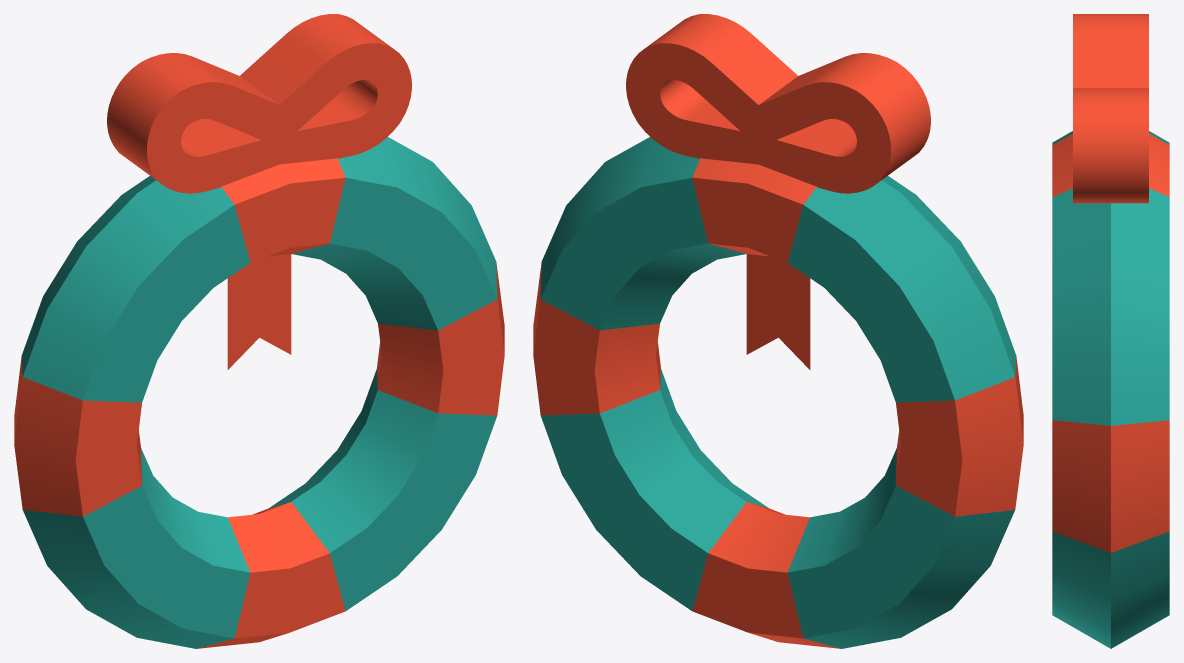
File: wreath.fbx
3 views of the same model, side by side, from view 1: azimuth 30°, elevation 25°; view 2: azimuth 150°, elevation 25°; view 3: azimuth 270°, elevation 25° (orthographic). The views are drawn at different scales.
Visible parts, largest first — view 1: wreath, tie; view 2: wreath, tie; view 3: wreath, tie.
Part boxes in pixels (box(x1,y1,x2,y2)): wreath: box(14, 137, 504, 648); tie: box(107, 14, 411, 193); wreath: box(533, 137, 1023, 648); tie: box(626, 14, 930, 193); wreath: box(1052, 131, 1169, 648); tie: box(1073, 14, 1148, 203).
Bounding box in the file's own units: 5.54 × 6.4 × 1.2.
